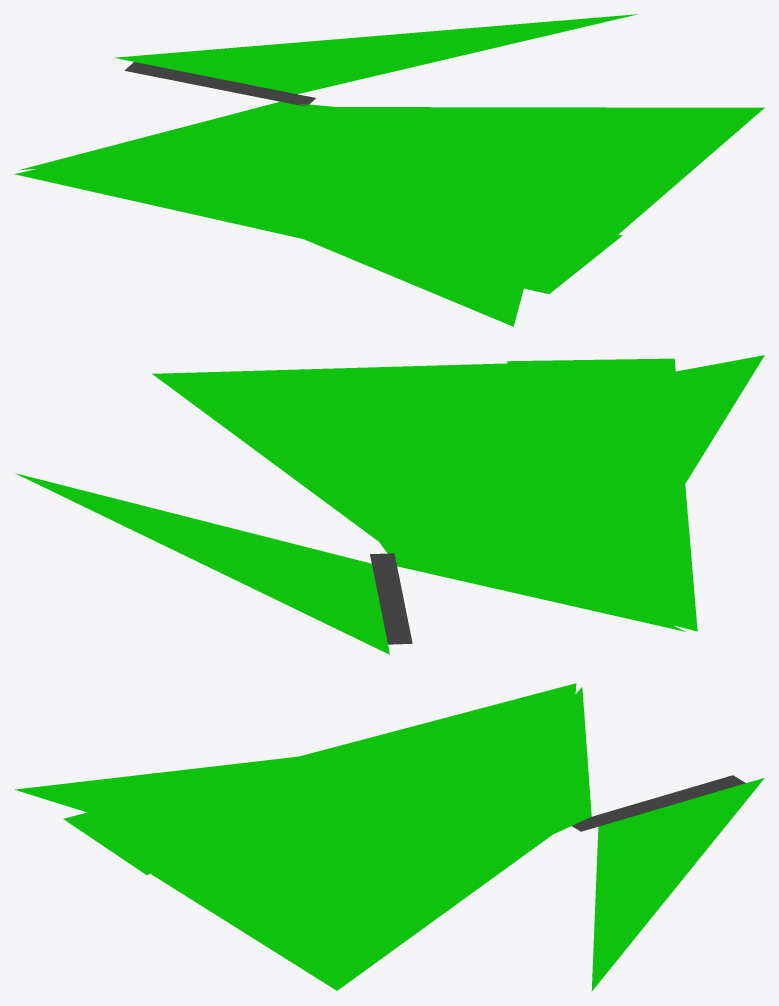
3 renders of one model, top to bottom at view 1: azimuth 30°, elevation 25°; view 2: azimuth 150°, elevation 25°; view 3: azimuth 270°, elevation 25°, orthographic. The views are drawn at different scales.
Bounding box in the file's own units: 110 × 0 × 113.
